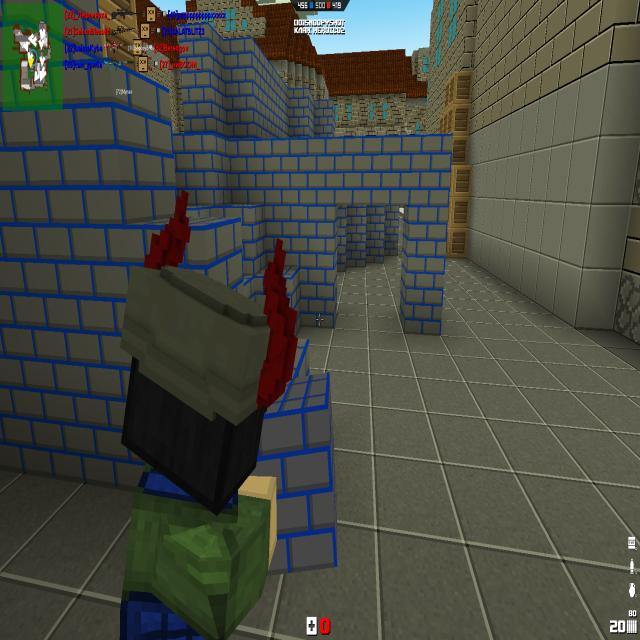player: (114, 194, 290, 635)
